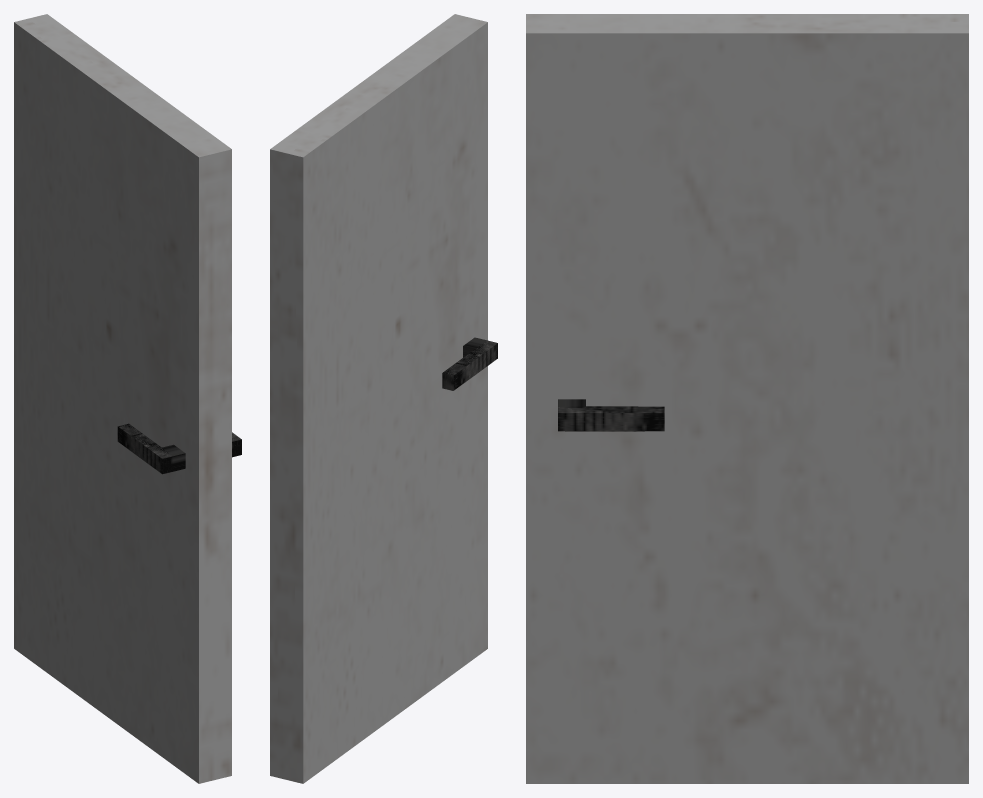
Rendered from porte.fbx.
3 renders of one model, left to right at view 1: azimuth 30°, elevation 25°; view 2: azimuth 150°, elevation 25°; view 3: azimuth 270°, elevation 25°, orthographic. The views are drawn at different scales.
Visible parts, largest first — view 1: Porte.001, Poignee.001; view 2: Porte.001, Poignee.001; view 3: Porte.001, Poignee.001.
Boxes of the visible parts, bbox=[...] form: Porte.001: bbox=[14, 14, 231, 783]; Poignee.001: bbox=[117, 423, 241, 474]; Porte.001: bbox=[270, 14, 487, 783]; Poignee.001: bbox=[442, 337, 497, 390]; Porte.001: bbox=[526, 14, 968, 783]; Poignee.001: bbox=[558, 399, 664, 431].
Bounding box in the file's own units: 17.25 × 130 × 69.29.
